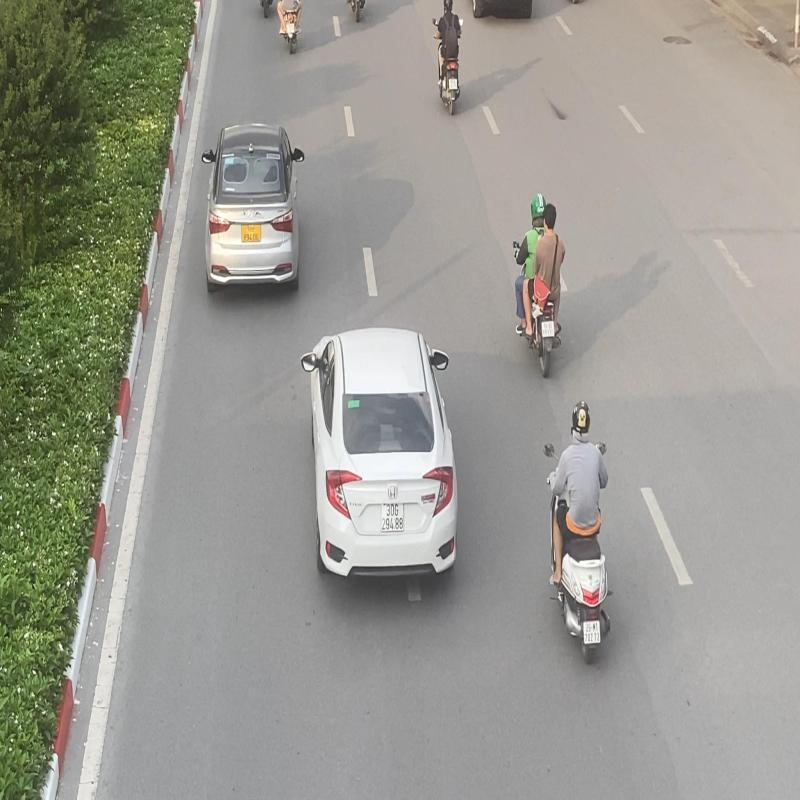helmet: (572, 400, 590, 432), (530, 192, 547, 222)
licenseplate: (582, 620, 602, 644), (542, 320, 555, 338)
motorcyclist: (540, 398, 618, 670), (511, 190, 568, 382)
nohelmet: (542, 202, 556, 232)
